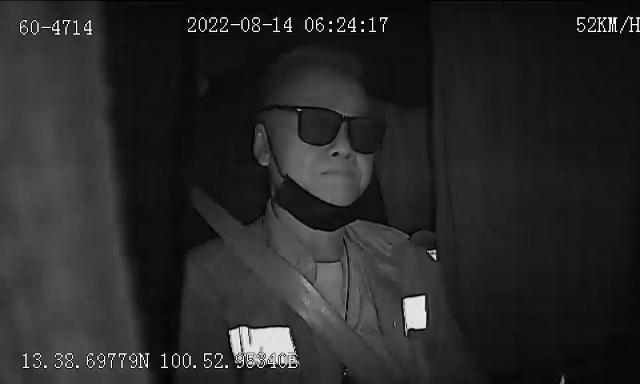Seatbelt: (193, 194, 389, 384)
